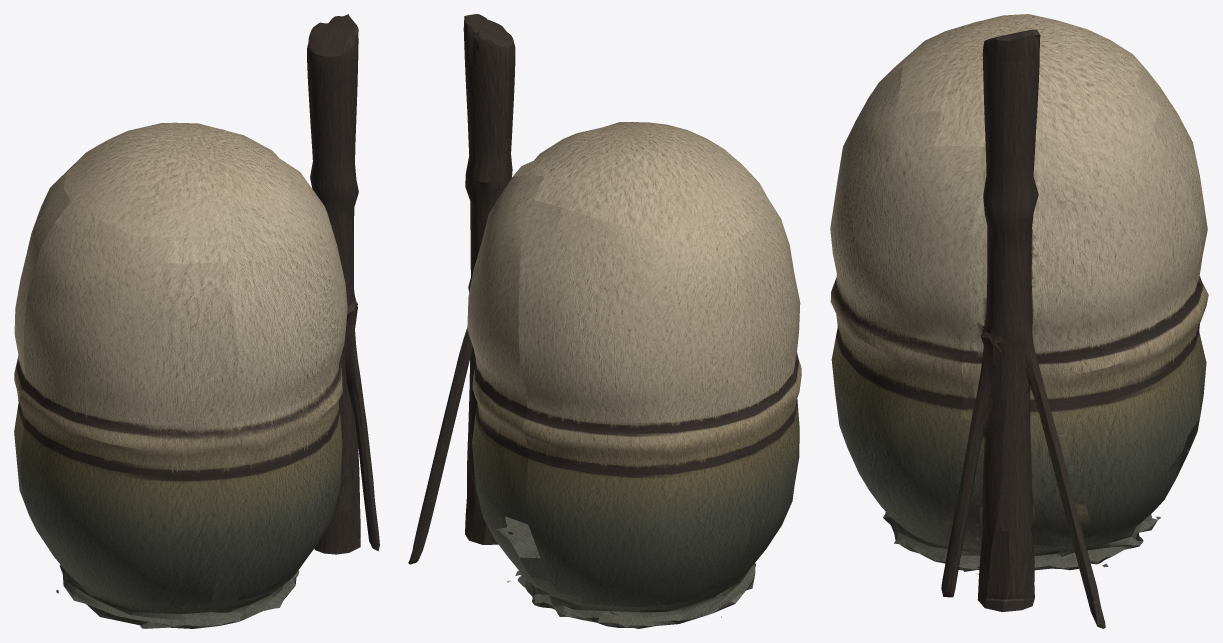
Rendered from ok-farm-haybale-meshy.glb.
The picture shows the model from 3 angles, left to right: view 1: azimuth 30°, elevation 25°; view 2: azimuth 150°, elevation 25°; view 3: azimuth 270°, elevation 25°; orthographic projection. The views are drawn at different scales.
Bounding box in the file's own units: 1.24 × 1.89 × 1.1.
1 material, 1 textured.
